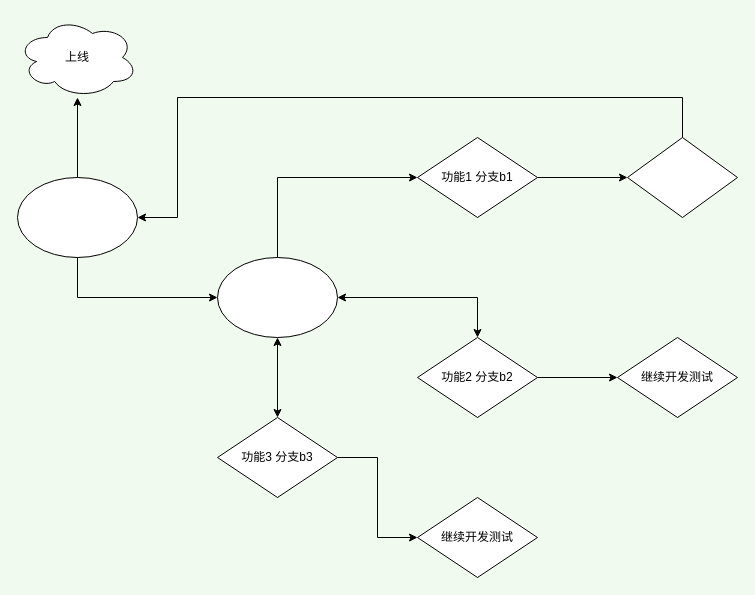
The diagram is 755 pixels wide and 595 high, and some of its shapes have lost their labels. Here are the shapes that lost their labels. From the top down, the centre of each, then its label:
At [682,177]: "开发测试完成".
At [77,217]: "主分支 master".
At [277,297]: "开发分支 dev".
